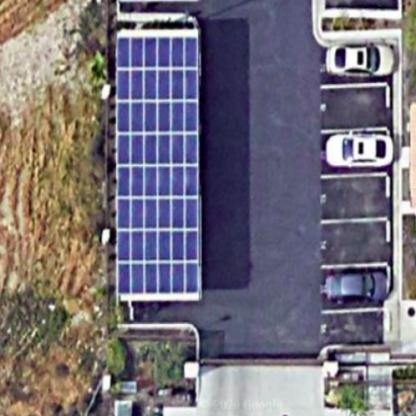car: (317, 263, 393, 308), (322, 127, 397, 167), (320, 41, 397, 78)
solar_panel: (106, 11, 205, 306)
